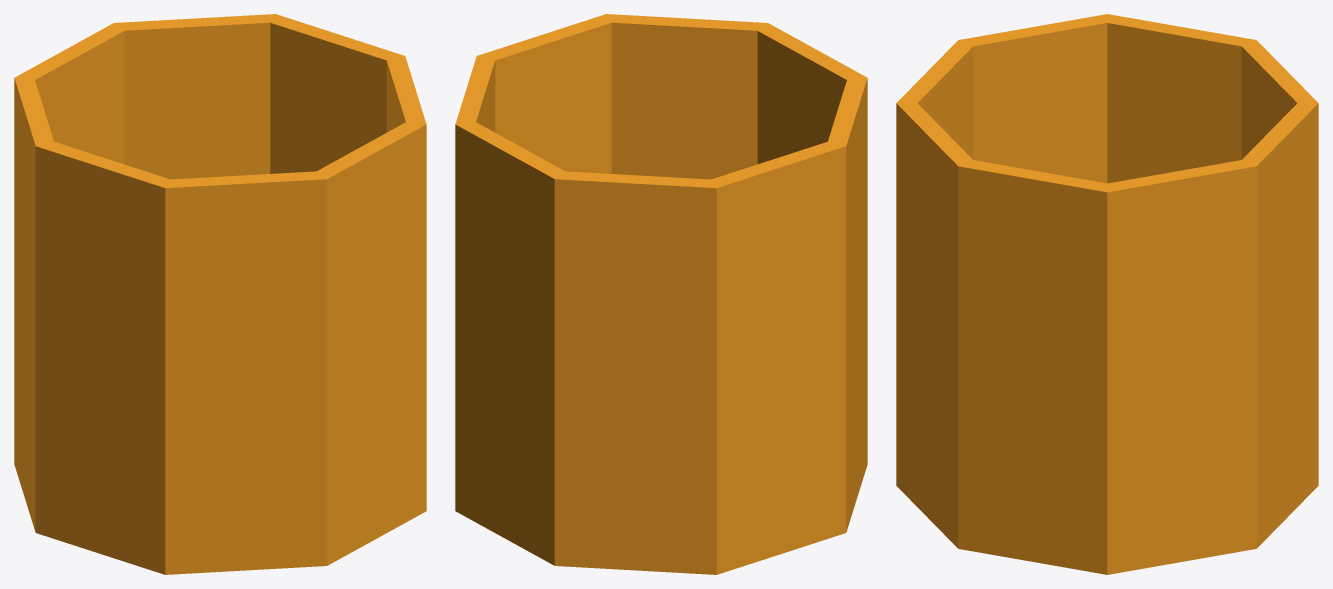
3 renders of one model, left to right at view 1: azimuth 30°, elevation 25°; view 2: azimuth 150°, elevation 25°; view 3: azimuth 270°, elevation 25°, orthographic.
Parts seen in each view (by area): view 1: SM_Primitive_Tube_02; view 2: SM_Primitive_Tube_02; view 3: SM_Primitive_Tube_02.
Part boxes in pixels (<box>): SM_Primitive_Tube_02: <box>14,14,426,574</box>; SM_Primitive_Tube_02: <box>455,14,867,574</box>; SM_Primitive_Tube_02: <box>896,14,1318,574</box>.
Bounding box in the file's own units: 100 × 100 × 100.
